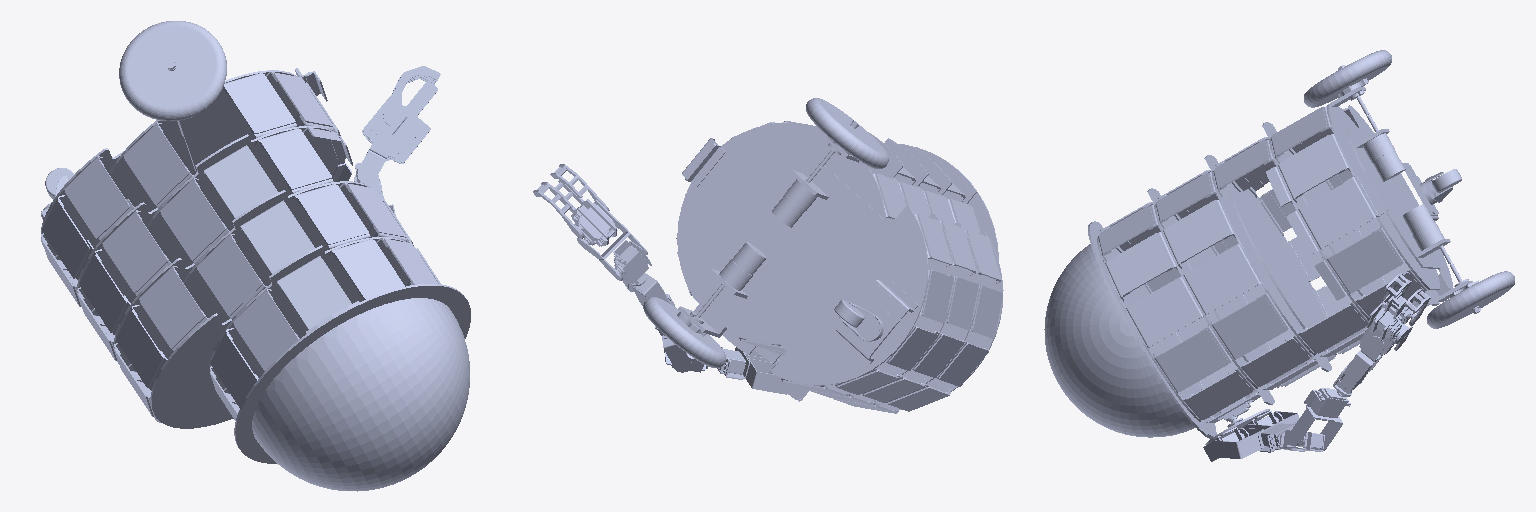
URDF robot description (boomerang):
<?xml version="1.0" ?>
<robot name="boomerang">
	<link name="r_forearmA_link-11">
		<visual>
			<geometry>
				<mesh filename="boomerang - r_forearmA_link-1.STL"/>
			</geometry>
			<origin rpy="0 0 0" xyz="0.182803 0.225309 -0.148578"/>
			<material name="r_forearmA_link-11_color">
				<color rgba="0.792157 0.819608 0.933333 1"/>
			</material>
		</visual>
		<collision>
			<geometry>
				<mesh filename="boomerang - r_forearmA_link-1.STL"/>
			</geometry>
			<origin rpy="0 0 0" xyz="0.182803 0.225309 -0.148578"/>
		</collision>
		<inertial>
			<mass value="0.00004"/>
			<inertia ixx="0" ixy="0" ixz="-0" iyy="0" iyz="-0" izz="0"/>
			<origin rpy="0 0 0" xyz="0.230202 0.064738 -0.095544"/>
		</inertial>
	</link>
	<link name="r_forearmB_link-11">
		<visual>
			<geometry>
				<mesh filename="boomerang - r_forearmB_link-1.STL"/>
			</geometry>
			<origin rpy="0 0 0" xyz="-0.04876 0.13858 -0.079179"/>
			<material name="r_forearmB_link-11_color">
				<color rgba="0.792157 0.819608 0.933333 1"/>
			</material>
		</visual>
		<collision>
			<geometry>
				<mesh filename="boomerang - r_forearmB_link-1.STL"/>
			</geometry>
			<origin rpy="0 0 0" xyz="-0.04876 0.13858 -0.079179"/>
		</collision>
		<inertial>
			<mass value="0.000037"/>
			<inertia ixx="0" ixy="-0" ixz="0" iyy="0" iyz="-0" izz="0"/>
			<origin rpy="0 0 0" xyz="-0.001727 0.013603 0.026982"/>
		</inertial>
	</link>
	<joint name="r_forearmA_link-1--r_forearmB_link-11" type="revolute">
		<parent link="r_forearmA_link-11"/>
		<child link="r_forearmB_link-11"/>
		<origin rpy="0.894843 0.301366 2.168802" xyz="0.231562 0.086729 -0.069398"/>
		<axis xyz="0.365479 -0.360814 -0.858043"/>
	</joint>
	<link name="r_forearmC_link-11">
		<visual>
			<geometry>
				<mesh filename="boomerang - r_forearmC_link-1.STL"/>
			</geometry>
			<origin rpy="0 0 0" xyz="-0.033177 0.130402 -0.123637"/>
			<material name="r_forearmC_link-11_color">
				<color rgba="0.792157 0.819608 0.933333 1"/>
			</material>
		</visual>
		<collision>
			<geometry>
				<mesh filename="boomerang - r_forearmC_link-1.STL"/>
			</geometry>
			<origin rpy="0 0 0" xyz="-0.033177 0.130402 -0.123637"/>
		</collision>
		<inertial>
			<mass value="0.000042"/>
			<inertia ixx="0" ixy="-0" ixz="-0" iyy="0" iyz="-0" izz="0"/>
			<origin rpy="0 0 0" xyz="0.024677 0.032609 0.037409"/>
		</inertial>
	</link>
	<joint name="r_forearmB_link-1--r_forearmC_link-11" type="revolute">
		<parent link="r_forearmB_link-11"/>
		<child link="r_forearmC_link-11"/>
		<origin rpy="0.031556 0.01838 -0.013651" xyz="-0.015582 0.008179 0.044458"/>
		<axis xyz="-0.159848 -0.93245 0.324016"/>
	</joint>
	<link name="r_wrist_link-11">
		<visual>
			<geometry>
				<mesh filename="boomerang - r_wrist_link-1.STL"/>
			</geometry>
			<origin rpy="0 0 0" xyz="-0.074717 0.10161 -0.18323"/>
			<material name="r_wrist_link-11_color">
				<color rgba="0.792157 0.819608 0.933333 1"/>
			</material>
		</visual>
		<collision>
			<geometry>
				<mesh filename="boomerang - r_wrist_link-1.STL"/>
			</geometry>
			<origin rpy="0 0 0" xyz="-0.074717 0.10161 -0.18323"/>
		</collision>
		<inertial>
			<mass value="0.000012"/>
			<inertia ixx="0" ixy="0" ixz="-0" iyy="0" iyz="0" izz="0"/>
			<origin rpy="0 0 0" xyz="0.008924 0.031804 0.005015"/>
		</inertial>
	</link>
	<joint name="r_wrist_link-1--r_forearmC_link-11" type="revolute">
		<parent link="r_forearmC_link-11"/>
		<child link="r_wrist_link-11"/>
		<origin rpy="1.249194 -1.245555 -0.234361" xyz="0.04154 0.028792 0.059593"/>
		<axis xyz="-0.930683 0.0329407 -0.364341"/>
	</joint>
	<link name="r_graspA_link-11">
		<visual>
			<geometry>
				<mesh filename="boomerang - r_graspA_link-1.STL"/>
			</geometry>
			<origin rpy="0 0 0" xyz="-0.067051 0.136338 -0.12243"/>
			<material name="r_graspA_link-11_color">
				<color rgba="0.792157 0.819608 0.933333 1"/>
			</material>
		</visual>
		<collision>
			<geometry>
				<mesh filename="boomerang - r_graspA_link-1.STL"/>
			</geometry>
			<origin rpy="0 0 0" xyz="-0.067051 0.136338 -0.12243"/>
		</collision>
		<inertial>
			<mass value="0.000085"/>
			<inertia ixx="0" ixy="0" ixz="0" iyy="0" iyz="0" izz="0"/>
			<origin rpy="0 0 0" xyz="-0.033222 0.00308 0.015166"/>
		</inertial>
	</link>
	<joint name="r_wrist_link-1--r_graspA_link-11" type="revolute">
		<parent link="r_wrist_link-11"/>
		<child link="r_graspA_link-11"/>
		<origin rpy="-1.264633 -0.448635 -1.31351" xyz="0.03209 0.039763 0.028739"/>
		<axis xyz="-0.930683 0.0329407 -0.364341"/>
	</joint>
	<link name="r_graspB_link-11">
		<visual>
			<geometry>
				<mesh filename="boomerang - r_graspB_link-1.STL"/>
			</geometry>
			<origin rpy="0 0 0" xyz="-0.054669 0.115331 -0.146463"/>
			<material name="r_graspB_link-11_color">
				<color rgba="0.792157 0.819608 0.933333 1"/>
			</material>
		</visual>
		<collision>
			<geometry>
				<mesh filename="boomerang - r_graspB_link-1.STL"/>
			</geometry>
			<origin rpy="0 0 0" xyz="-0.054669 0.115331 -0.146463"/>
		</collision>
		<inertial>
			<mass value="0.000017"/>
			<inertia ixx="0" ixy="0" ixz="0" iyy="0" iyz="-0" izz="0"/>
			<origin rpy="0 0 0" xyz="-0.035491 0.024269 0.017594"/>
		</inertial>
	</link>
	<joint name="r_graspA_link-1--r_graspB_link-11" type="revolute">
		<parent link="r_graspA_link-11"/>
		<child link="r_graspB_link-11"/>
		<origin rpy="0.844762 -0.001049 0.329881" xyz="-0.012382 0.021007 0.024033"/>
		<axis xyz="-0.930683 0.0329407 -0.364341"/>
	</joint>
	<link name="r_elbow_link-11">
		<visual>
			<geometry>
				<mesh filename="boomerang - r_elbow_link-1.STL"/>
			</geometry>
			<origin rpy="0 0 0" xyz="-0.05162 0.205211 -0.00899"/>
			<material name="r_elbow_link-11_color">
				<color rgba="0.792157 0.819608 0.933333 1"/>
			</material>
		</visual>
		<collision>
			<geometry>
				<mesh filename="boomerang - r_elbow_link-1.STL"/>
			</geometry>
			<origin rpy="0 0 0" xyz="-0.05162 0.205211 -0.00899"/>
		</collision>
		<inertial>
			<mass value="0.000037"/>
			<inertia ixx="0" ixy="-0" ixz="-0" iyy="0" iyz="-0" izz="0"/>
			<origin rpy="0 0 0" xyz="-0.017827 0.006656 -0.010803"/>
		</inertial>
	</link>
	<joint name="r_elbow_link-1--r_forearmA_link-11" type="revolute">
		<parent link="r_forearmA_link-11"/>
		<child link="r_elbow_link-11"/>
		<origin rpy="0.078116 -0.11724 0.053936" xyz="0.234423 0.020097 -0.139588"/>
		<axis xyz="0.418442 -0.759733 0.497707"/>
	</joint>
	<link name="r_upperarm_link-11">
		<visual>
			<geometry>
				<mesh filename="boomerang - r_upperarm_link-1.STL"/>
			</geometry>
			<origin rpy="0 0 0" xyz="-0.00896 0.215391 0.005806"/>
			<material name="r_upperarm_link-11_color">
				<color rgba="0.792157 0.819608 0.933333 1"/>
			</material>
		</visual>
		<collision>
			<geometry>
				<mesh filename="boomerang - r_upperarm_link-1.STL"/>
			</geometry>
			<origin rpy="0 0 0" xyz="-0.00896 0.215391 0.005806"/>
		</collision>
		<inertial>
			<mass value="0.000047"/>
			<inertia ixx="0" ixy="-0" ixz="-0" iyy="0" iyz="0" izz="0"/>
			<origin rpy="0 0 0" xyz="-0.037212 -0.019205 -0.011317"/>
		</inertial>
	</link>
	<joint name="r_upperarm_link-1--r_elbow_link-11" type="revolute">
		<parent link="r_elbow_link-11"/>
		<child link="r_upperarm_link-11"/>
		<origin rpy="0.411941 0.28805 0.132202" xyz="-0.04266 -0.010179 -0.014796"/>
		<axis xyz="-0.419904 -0.64773 -0.635709"/>
	</joint>
	<link name="r_shoulder_link-11">
		<visual>
			<geometry>
				<mesh filename="boomerang - r_shoulder_link-1.STL"/>
			</geometry>
			<origin rpy="0 0 0" xyz="0.09714 0.224422 0.047137"/>
			<material name="r_shoulder_link-11_color">
				<color rgba="0.792157 0.819608 0.933333 1"/>
			</material>
		</visual>
		<collision>
			<geometry>
				<mesh filename="boomerang - r_shoulder_link-1.STL"/>
			</geometry>
			<origin rpy="0 0 0" xyz="0.09714 0.224422 0.047137"/>
		</collision>
		<inertial>
			<mass value="0.000087"/>
			<inertia ixx="0" ixy="0" ixz="-0" iyy="0" iyz="0" izz="0"/>
			<origin rpy="0 0 0" xyz="0.016898 -0.050106 0.027298"/>
		</inertial>
	</link>
	<joint name="r_shoulder_link-1--r_upperarm_link-11" type="revolute">
		<parent link="r_upperarm_link-11"/>
		<child link="r_shoulder_link-11"/>
		<origin rpy="-0.048611 0.066718 -0.038181" xyz="-0.106045 -0.009177 -0.041258"/>
		<axis xyz="-2.94656e-010 0.700453 -0.713699"/>
	</joint>
	<link name="body-11">
		<visual>
			<geometry>
				<mesh filename="boomerang - body-1.STL"/>
			</geometry>
			<origin rpy="0 0 0" xyz="0.122812 0.088415 0.279644"/>
			<material name="body-11_color">
				<color rgba="0.792157 0.819608 0.933333 1"/>
			</material>
		</visual>
		<collision>
			<geometry>
				<mesh filename="boomerang - body-1.STL"/>
			</geometry>
			<origin rpy="0 0 0" xyz="0.122812 0.088415 0.279644"/>
		</collision>
		<inertial>
			<mass value="0.010517"/>
			<inertia ixx="0.000369" ixy="-0" ixz="-0.000002" iyy="0.000378" iyz="0.000021" izz="0.000136"/>
			<origin rpy="0 0 0" xyz="0.168149 0.033664 -0.16458"/>
		</inertial>
	</link>
	<joint name="body-1--r_shoulder_link-11" type="revolute">
		<parent link="r_shoulder_link-11"/>
		<child link="body-11"/>
		<origin rpy="-1.731449 -0.793629 -2.997931" xyz="0.011051 -0.052887 0.033876"/>
		<axis xyz="-1 -4.20677e-010 0"/>
	</joint>
</robot>

--- Render facts (derived) ---
3 views of the same robot in one strip: view 1: azimuth 30°, elevation 25°; view 2: azimuth 150°, elevation 25°; view 3: azimuth 270°, elevation 25° (orthographic).
Model boomerang with 10 links and 9 joints (9 revolute), rooted at r_forearmA_link-11, posed every joint at zero.
Links seen in each view (by area): view 1: body-11, r_graspA_link-11, r_wrist_link-11, r_graspB_link-11; view 2: body-11, r_upperarm_link-11, r_graspA_link-11, r_forearmC_link-11, r_graspB_link-11, r_wrist_link-11, r_forearmA_link-11; view 3: body-11, r_forearmA_link-11, r_upperarm_link-11, r_forearmC_link-11, r_graspA_link-11, r_shoulder_link-11, r_graspB_link-11, r_elbow_link-11.
Link boxes in pixels (left/top/right/bottom): body-11: left=41, top=21, right=470, bottom=491; r_graspA_link-11: left=362, top=81, right=437, bottom=163; r_wrist_link-11: left=354, top=133, right=410, bottom=183; r_graspB_link-11: left=383, top=66, right=440, bottom=125; body-11: left=643, top=98, right=1003, bottom=413; r_upperarm_link-11: left=717, top=347, right=794, bottom=394; r_graspA_link-11: left=550, top=180, right=617, bottom=246; r_forearmC_link-11: left=613, top=240, right=665, bottom=300; r_graspB_link-11: left=533, top=164, right=609, bottom=238; r_wrist_link-11: left=577, top=221, right=647, bottom=280; r_forearmA_link-11: left=655, top=294, right=691, bottom=372; body-11: left=1044, top=50, right=1514, bottom=438; r_forearmA_link-11: left=1289, top=388, right=1350, bottom=450; r_upperarm_link-11: left=1211, top=411, right=1299, bottom=458; r_forearmC_link-11: left=1344, top=322, right=1397, bottom=382; r_graspA_link-11: left=1369, top=290, right=1417, bottom=340; r_shoulder_link-11: left=1203, top=409, right=1283, bottom=461; r_graspB_link-11: left=1381, top=273, right=1430, bottom=325; r_elbow_link-11: left=1279, top=430, right=1324, bottom=451.
Bounding box of the posed robot: 0.5869 × 0.6455 × 0.5316 m (x, y, z).
Meshes: 10 distinct files referenced, 10 mesh visuals loaded (10 binary STL).